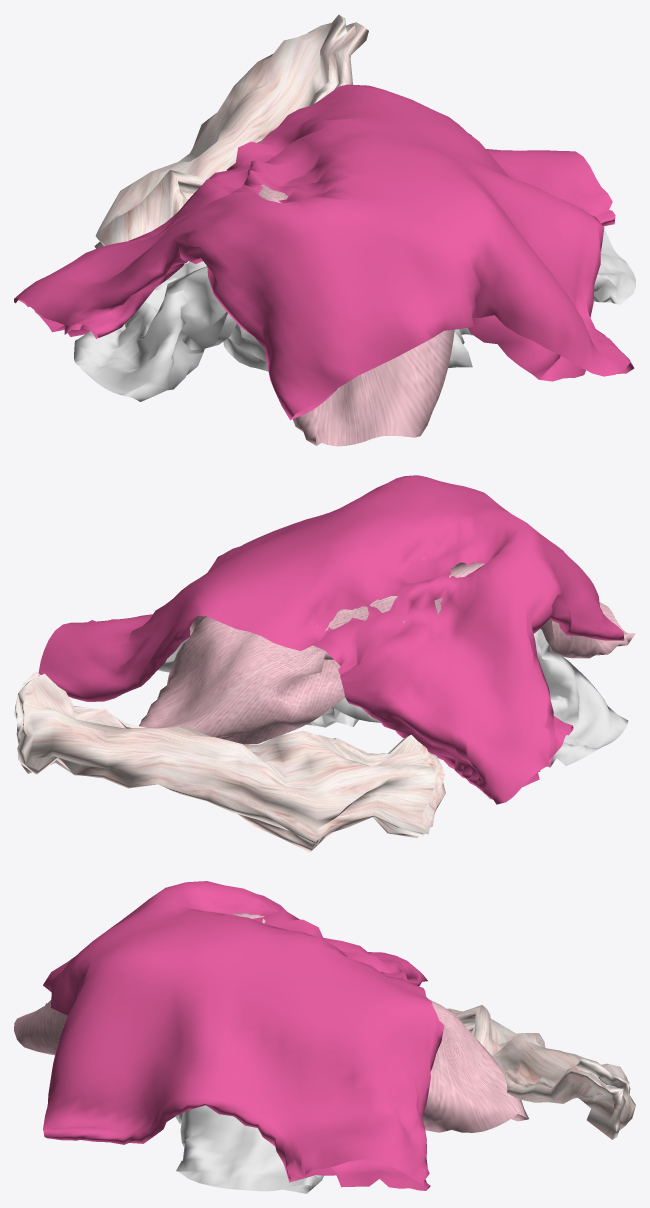
File: yofukasi_fuku.fbx
3 renders of one model, top to bottom at view 1: azimuth 30°, elevation 25°; view 2: azimuth 150°, elevation 25°; view 3: azimuth 270°, elevation 25°, orthographic. The views are drawn at different scales.
Visible parts, largest first — view 1: Cube.007, Cube.009, Cube.005, Cube.006; view 2: Cube.007, Cube.009, Cube.006, Cube.005; view 3: Cube.007, Cube.006, Cube.009, Cube.005.
Boxes of the visible parts, bbox=[...] form: Cube.007: bbox=[14, 84, 634, 420]; Cube.009: bbox=[94, 14, 368, 248]; Cube.005: bbox=[74, 229, 635, 401]; Cube.006: bbox=[257, 130, 454, 446]; Cube.007: bbox=[38, 475, 624, 804]; Cube.009: bbox=[14, 671, 445, 852]; Cube.006: bbox=[139, 557, 635, 744]; Cube.005: bbox=[158, 629, 628, 767]; Cube.007: bbox=[43, 881, 444, 1190]; Cube.006: bbox=[14, 913, 528, 1132]; Cube.009: bbox=[447, 1005, 635, 1139]; Cube.005: bbox=[175, 1105, 323, 1193].
Size of the model in its own units: 251 by 103 by 291.
Materials: 3 (2 with a texture image).
